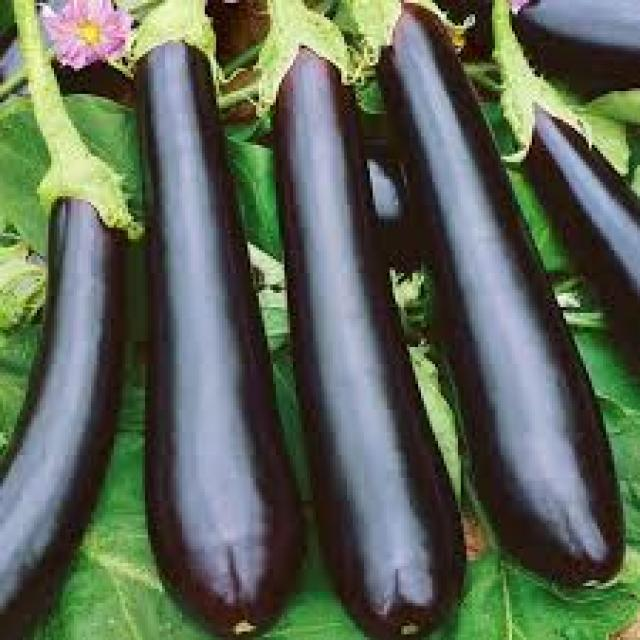eggplant: (358, 0, 618, 598), (248, 0, 462, 640), (104, 5, 288, 640), (0, 81, 143, 640), (472, 29, 640, 364)
